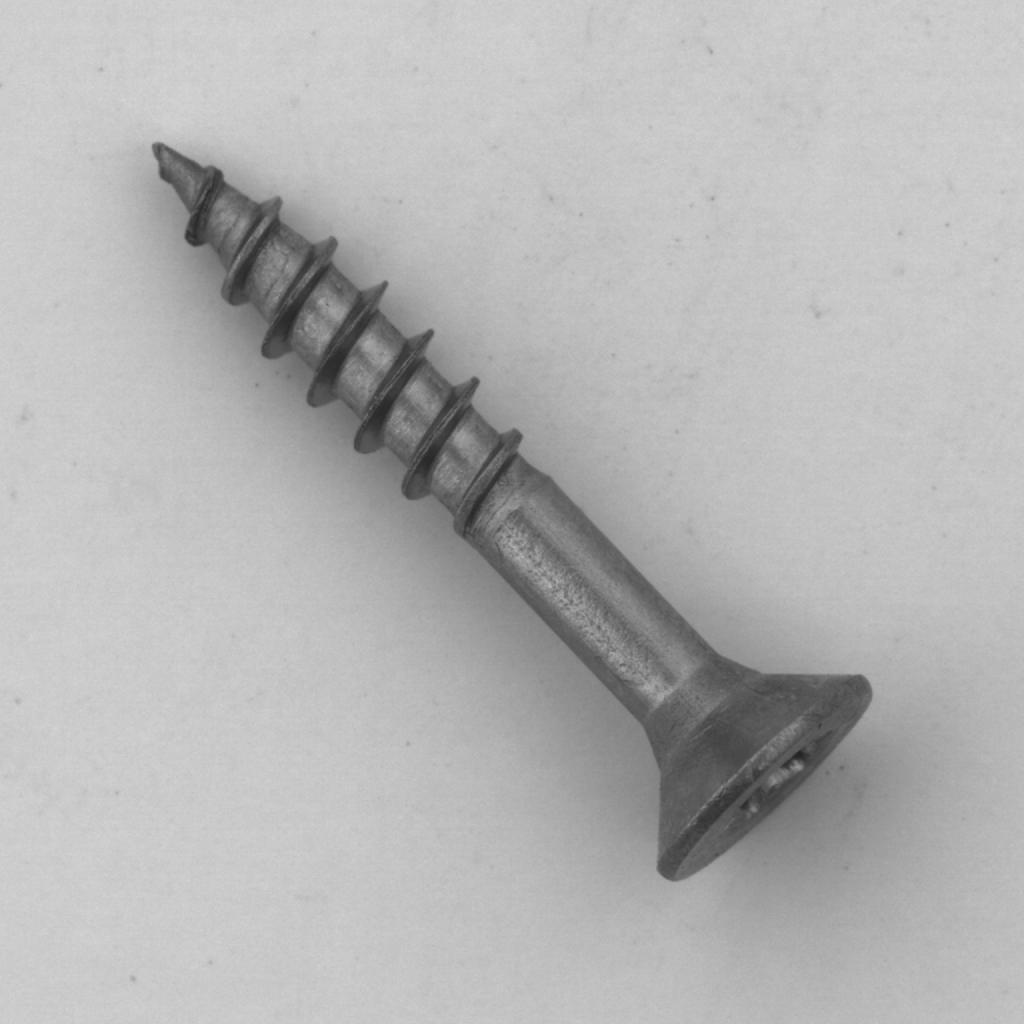good: (105, 113, 892, 907)
